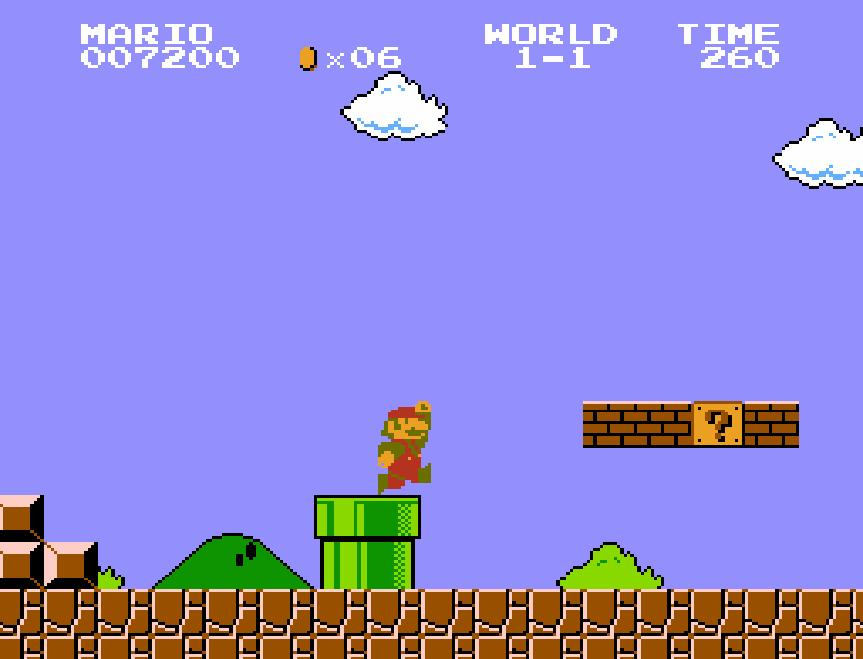big_mario: (376, 398, 434, 497)
